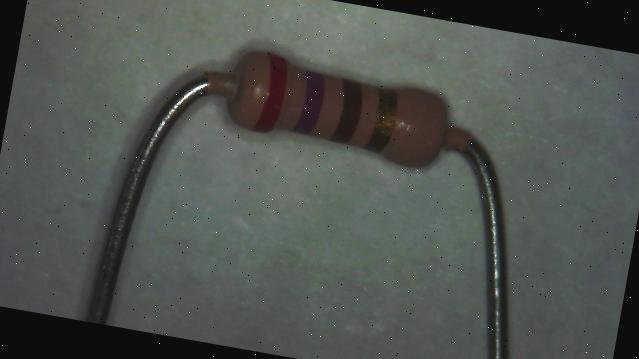brown: (329, 78, 365, 144)
gold: (365, 87, 400, 153)
red: (252, 52, 290, 133)
resistor: (204, 24, 487, 201)
violet: (292, 70, 326, 134)
